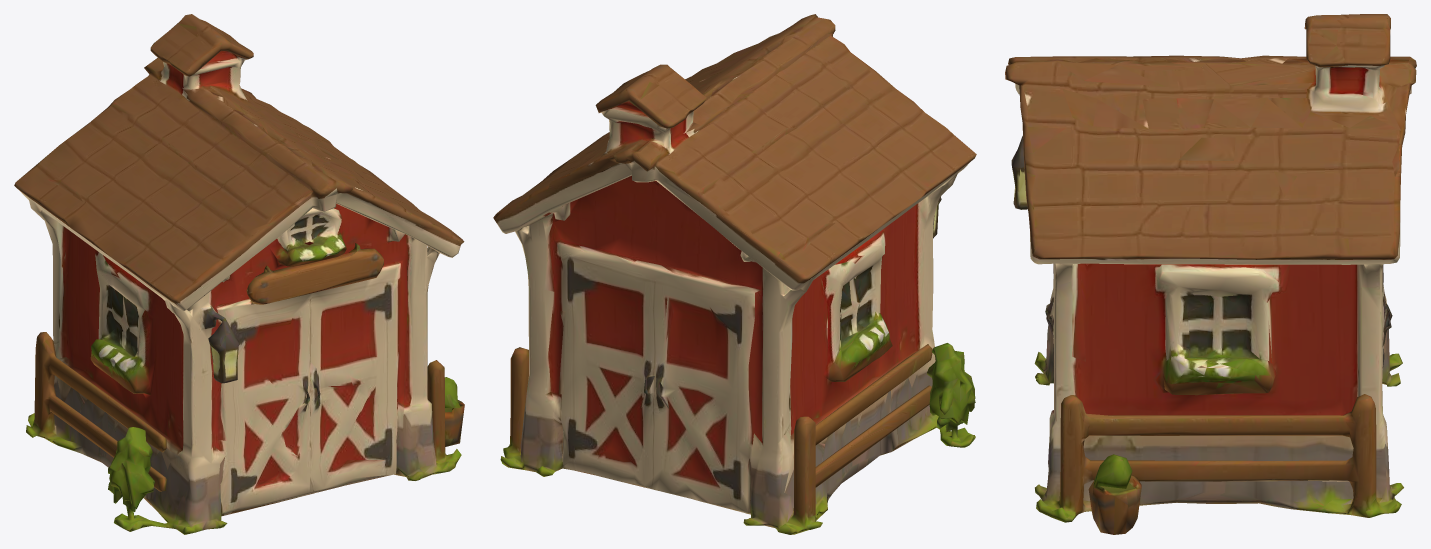
3 renders of one model, left to right at view 1: azimuth 30°, elevation 25°; view 2: azimuth 150°, elevation 25°; view 3: azimuth 270°, elevation 25°, orthographic. The views are drawn at different scales.
Visible parts, largest first — view 1: stable-lv2; view 2: stable-lv2; view 3: stable-lv2.
Boxes of the visible parts, x1=… form: stable-lv2: x1=14, y1=14, x2=464, y2=534; stable-lv2: x1=493, y1=14, x2=976, y2=534; stable-lv2: x1=1005, y1=14, x2=1416, y2=534.
Bounding box in the file's own units: 3.57 × 3.6 × 3.09.
1 material, 1 textured.
